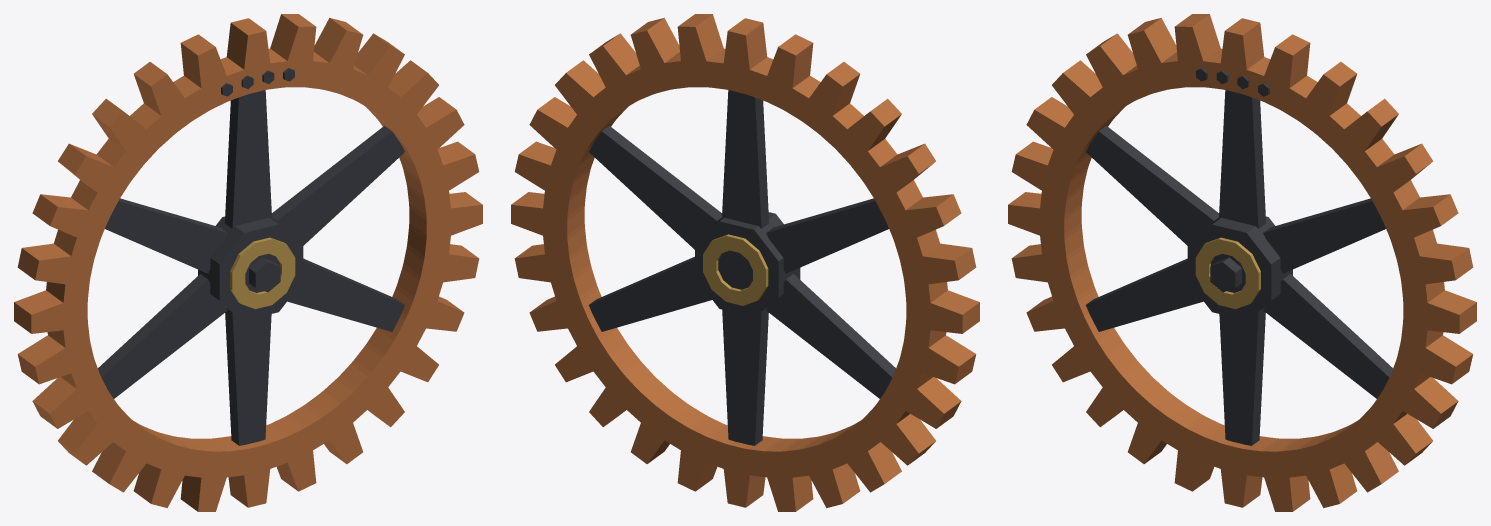
Rendered from gear_l.fbx.
3 views of the same model, side by side, from view 1: azimuth 30°, elevation 25°; view 2: azimuth 150°, elevation 25°; view 3: azimuth 330°, elevation 25° (orthographic).
Parts seen in each view (by area): view 1: Gear_Puzzle_L_Rim, Gear_Puzzle_L_Spokes, Gear_Puzzle_L_Hub, Gear_Puzzle_L_SizeDots; view 2: Gear_Puzzle_L_Rim, Gear_Puzzle_L_Spokes, Gear_Puzzle_L_Hub; view 3: Gear_Puzzle_L_Rim, Gear_Puzzle_L_Spokes, Gear_Puzzle_L_Hub, Gear_Puzzle_L_SizeDots.
Part boxes in pixels (x1,y1,x2,y2): Gear_Puzzle_L_Rim: [14, 14, 482, 511]; Gear_Puzzle_L_Spokes: [98, 90, 404, 445]; Gear_Puzzle_L_Hub: [198, 216, 303, 320]; Gear_Puzzle_L_SizeDots: [221, 68, 294, 96]; Gear_Puzzle_L_Rim: [511, 14, 979, 511]; Gear_Puzzle_L_Spokes: [589, 90, 895, 445]; Gear_Puzzle_L_Hub: [695, 212, 800, 317]; Gear_Puzzle_L_Rim: [1008, 14, 1476, 511]; Gear_Puzzle_L_Spokes: [1086, 90, 1392, 445]; Gear_Puzzle_L_Hub: [1187, 216, 1292, 320]; Gear_Puzzle_L_SizeDots: [1196, 68, 1269, 96].
Bounding box in the file's own units: 120 × 120 × 14.
